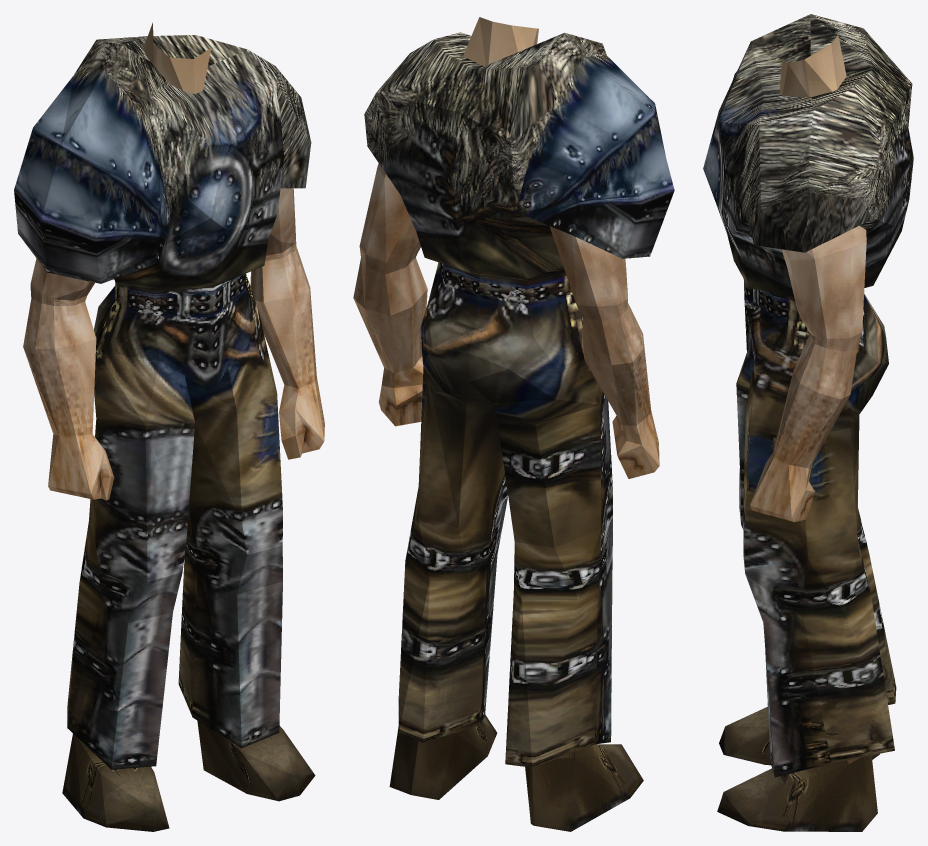
Rendered from SLD_ARMOR_M-CweElTgg.glb.
The picture shows the model from 3 angles, left to right: view 1: azimuth 30°, elevation 25°; view 2: azimuth 150°, elevation 25°; view 3: azimuth 270°, elevation 25°; orthographic projection. The views are drawn at different scales.
Parts seen in each view (by area): view 1: zm_GRD_Tm, zm_Body; view 2: zm_GRD_Tm, zm_Body; view 3: zm_GRD_Tm, zm_Body.
Part boxes in pixels (bbox=[...]): zm_GRD_Tm: bbox=[14, 35, 315, 831]; zm_Body: bbox=[23, 22, 324, 500]; zm_GRD_Tm: bbox=[364, 32, 674, 831]; zm_Body: bbox=[353, 17, 659, 478]; zm_GRD_Tm: bbox=[703, 14, 913, 831]; zm_Body: bbox=[750, 34, 866, 522].
Bounding box in the file's own units: 0.6541 × 1.68 × 0.4215.
Materials: 2 (2 with a texture image).
